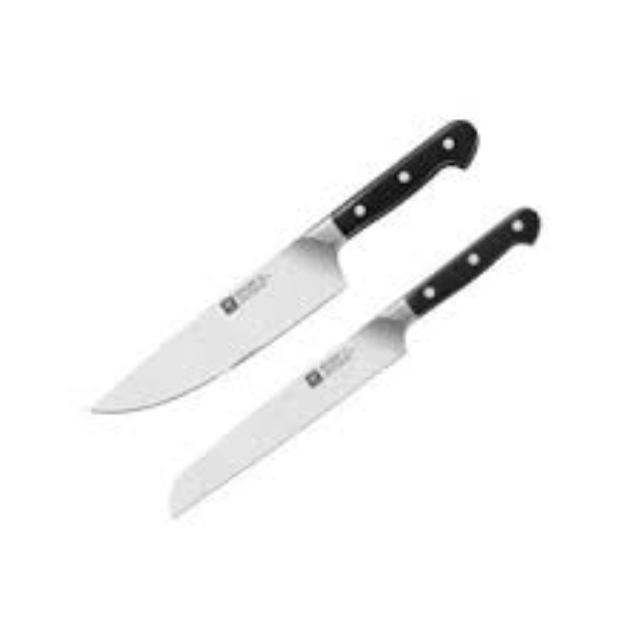knife: (166, 203, 540, 517), (89, 114, 477, 414)
